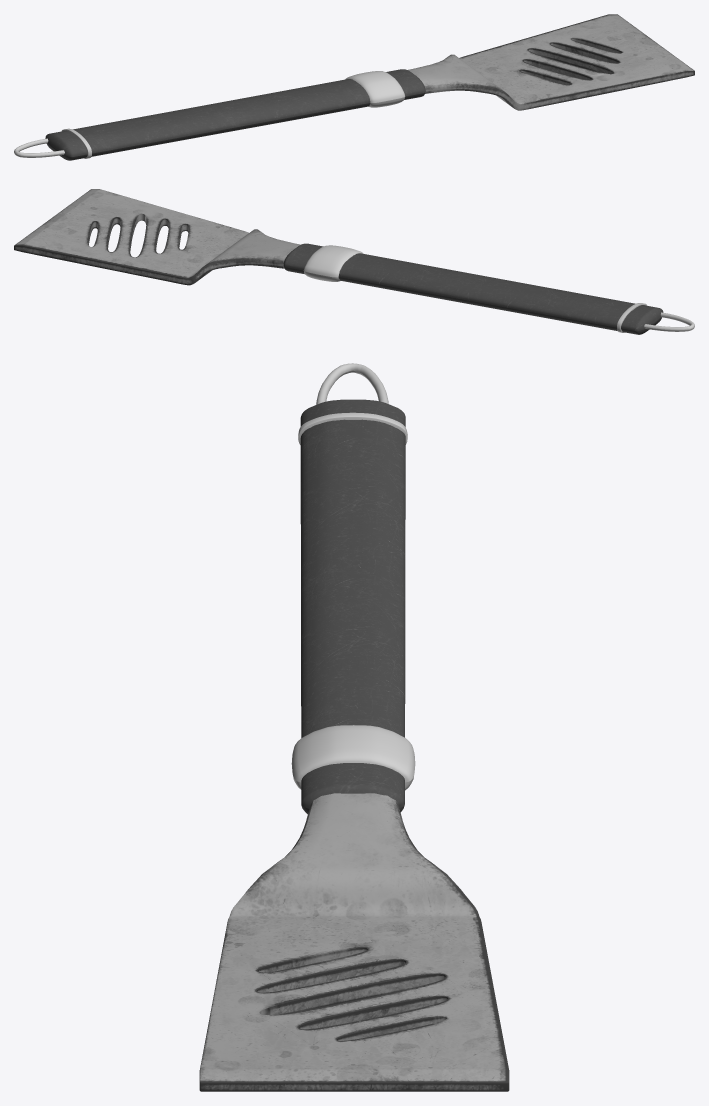
Rendered from spatula.obj.
3 views of the same model, one above another, from view 1: azimuth 30°, elevation 25°; view 2: azimuth 150°, elevation 25°; view 3: azimuth 270°, elevation 25° (orthographic). The views are drawn at different scales.
Visible parts, largest first — view 1: spatula_L_Mesh.003, handle_L_Mesh.001, details_L_Mesh, ring_L_Mesh.002; view 2: spatula_L_Mesh.003, handle_L_Mesh.001, details_L_Mesh, ring_L_Mesh.002; view 3: spatula_L_Mesh.003, handle_L_Mesh.001, details_L_Mesh.
Part boxes in pixels (box(x1,y1,x2,y2)): spatula_L_Mesh.003: box(408, 14, 694, 110); handle_L_Mesh.001: box(45, 69, 425, 160); details_L_Mesh: box(61, 71, 405, 158); ring_L_Mesh.002: box(14, 138, 64, 157); spatula_L_Mesh.003: box(14, 189, 300, 285); handle_L_Mesh.001: box(283, 243, 663, 334); details_L_Mesh: box(303, 245, 647, 332); ring_L_Mesh.002: box(644, 312, 694, 331); spatula_L_Mesh.003: box(199, 793, 509, 1091); handle_L_Mesh.001: box(300, 399, 405, 814); details_L_Mesh: box(291, 412, 415, 790).
Size of the model in its own units: 0.4296 by 0.0359 by 0.0899.
Materials: 2 (1 with a texture image).
